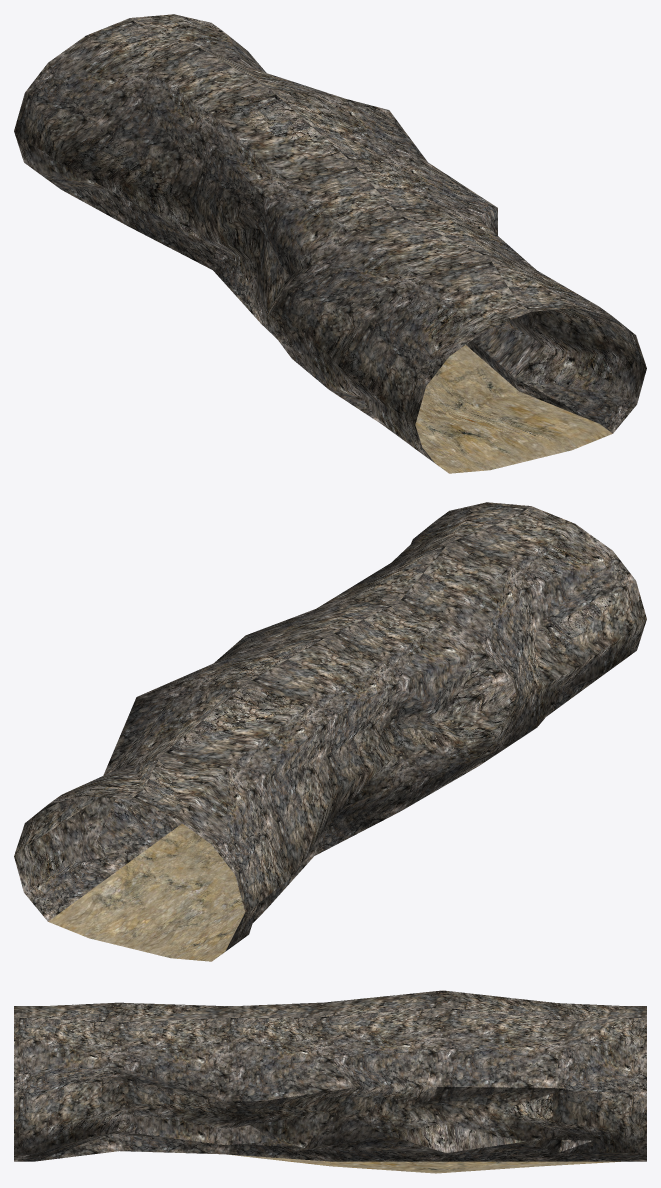
The model's file is pir_m_are_cav_hallNarrow150.fbx.
3 views of the same model, one above another, from view 1: azimuth 30°, elevation 25°; view 2: azimuth 150°, elevation 25°; view 3: azimuth 270°, elevation 25° (orthographic). The views are drawn at different scales.
Visible parts, largest first — view 1: hallNarrow150_wall, hallNarrow150_floor; view 2: hallNarrow150_wall, hallNarrow150_floor; view 3: hallNarrow150_wall, hallNarrow150_floor.
Part boxes in pixels (x1=…): hallNarrow150_wall: x1=14, y1=14, x2=646, y2=463; hallNarrow150_floor: x1=415, y1=345, x2=612, y2=473; hallNarrow150_wall: x1=14, y1=502, x2=646, y2=951; hallNarrow150_floor: x1=48, y1=823, x2=245, y2=961; hallNarrow150_wall: x1=14, y1=990, x2=646, y2=1161; hallNarrow150_floor: x1=226, y1=1154, x2=620, y2=1173.
Bounding box in the file's own units: 5699 × 3461 × 15000.
2 materials, 2 textured.
